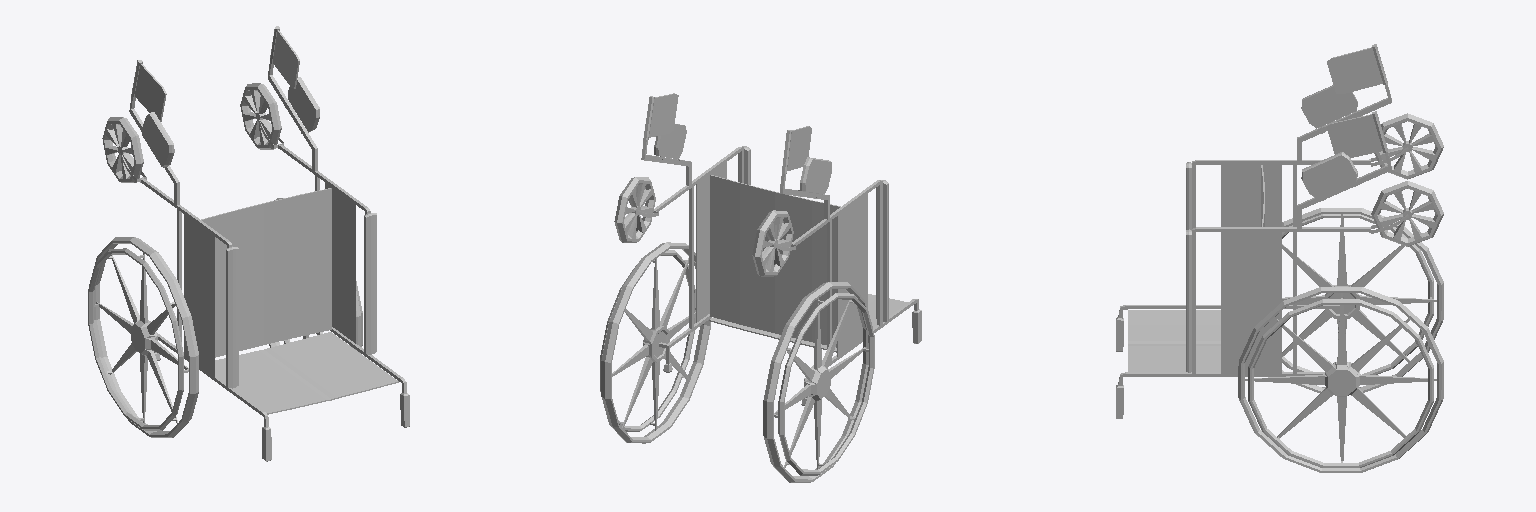
File: blender_pbr.obj
3 renders of one model, left to right at view 1: azimuth 30°, elevation 25°; view 2: azimuth 150°, elevation 25°; view 3: azimuth 270°, elevation 25°, orthographic.
Parts seen in each view (by area): view 1: WheelchairUnfolded_WheelchairMastUnfolded.001; view 2: WheelchairUnfolded_WheelchairMastUnfolded.001; view 3: WheelchairUnfolded_WheelchairMastUnfolded.001.
Boxes of the visible parts, box(x1,y1,x2,y2) form: WheelchairUnfolded_WheelchairMastUnfolded.001: box(88, 26, 409, 461); WheelchairUnfolded_WheelchairMastUnfolded.001: box(600, 93, 921, 482); WheelchairUnfolded_WheelchairMastUnfolded.001: box(1116, 44, 1443, 472).
Size of the model in its own units: 0.6061 by 1.12 by 0.94.